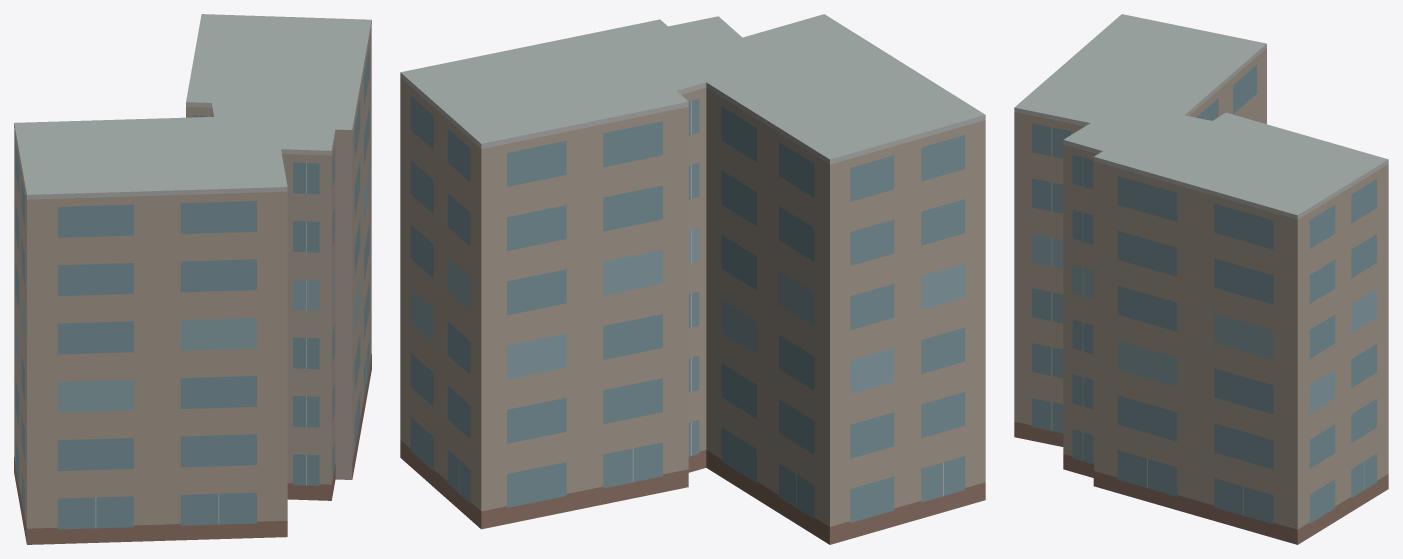
The model's file is survey-upis-32875038.glb.
The picture shows the model from 3 angles, left to right: view 1: azimuth 30°, elevation 25°; view 2: azimuth 150°, elevation 25°; view 3: azimuth 270°, elevation 25°; orthographic projection. The views are drawn at different scales.
Parts seen in each view (by area): view 1: survey-upis-32875038.tmp; view 2: survey-upis-32875038.tmp; view 3: survey-upis-32875038.tmp.
Part boxes in pixels (x1,y1,x2,y2): survey-upis-32875038.tmp: (14,14,371,544); survey-upis-32875038.tmp: (400,14,985,544); survey-upis-32875038.tmp: (1014,14,1388,544).
Bounding box in the file's own units: 23.99 × 18.3 × 18.85.
